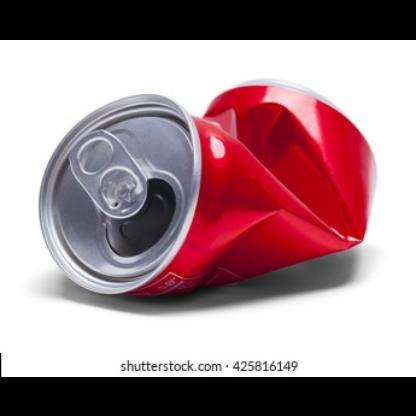Dent_Can: (155, 91, 370, 301), (211, 120, 340, 257)
Lid_Open: (69, 128, 179, 258)
Tin_Can: (23, 70, 381, 316)
